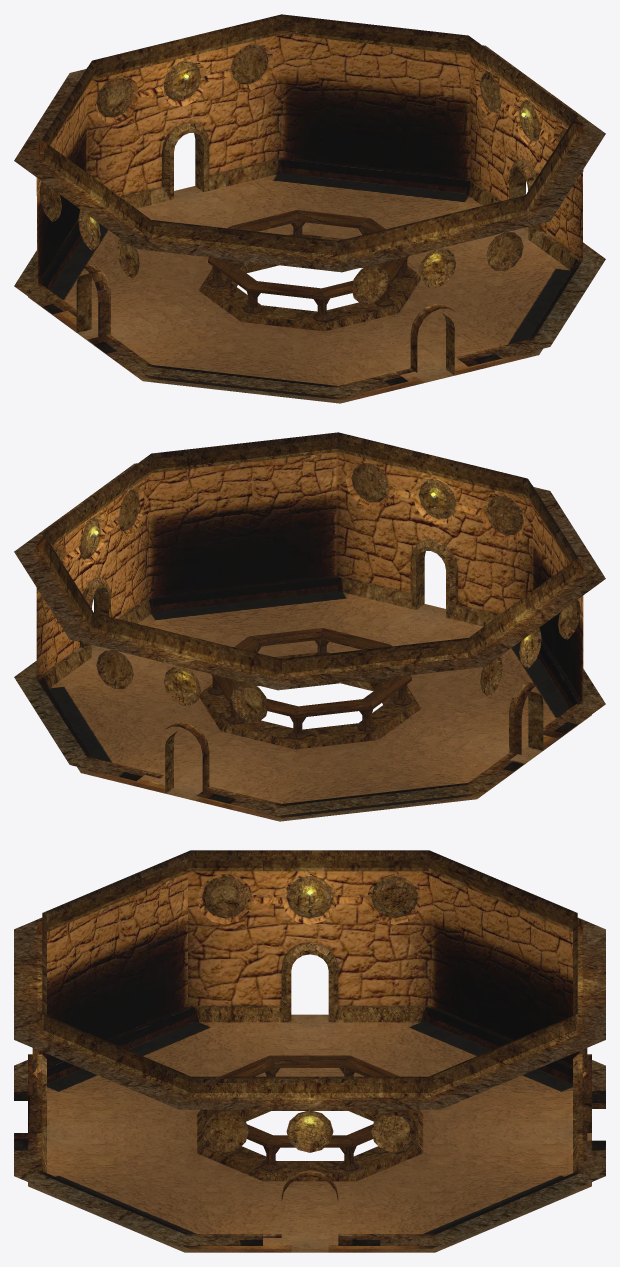
File: MainRoom-transformed.glb
The picture shows the model from 3 angles, top to bottom: view 1: azimuth 30°, elevation 25°; view 2: azimuth 150°, elevation 25°; view 3: azimuth 270°, elevation 25°; orthographic projection. The views are drawn at different scales.
Parts seen in each view (by area): view 1: object1.021, lowerwallCol, floorCol, railing1; view 2: object1.021, lowerwallCol, floorCol, railing1; view 3: object1.021, floorCol, lowerwallCol, railing1.
Part boxes in pixels (bbox=[...]): object1.021: bbox=[14, 14, 605, 397]; lowerwallCol: bbox=[36, 34, 583, 284]; floorCol: bbox=[28, 173, 571, 403]; railing1: bbox=[208, 210, 411, 321]; object1.021: bbox=[14, 432, 605, 815]; lowerwallCol: bbox=[36, 452, 583, 701]; floorCol: bbox=[48, 591, 591, 821]; railing1: bbox=[208, 628, 411, 739]; object1.021: bbox=[14, 850, 605, 1245]; floorCol: bbox=[28, 1014, 591, 1252]; lowerwallCol: bbox=[33, 871, 586, 1077]; railing1: bbox=[206, 1055, 413, 1170].
Bounding box in the file's own units: 6.3 × 2.2 × 6.3.
Materials: 8 (7 with a texture image).
